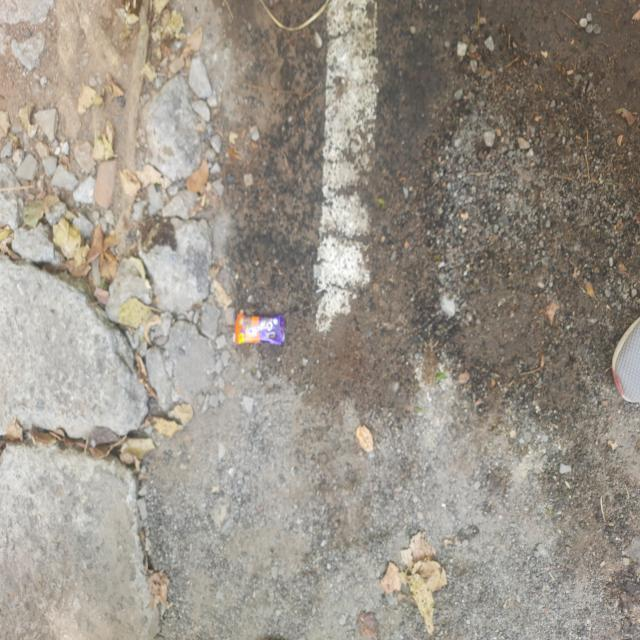Plastic_wraper: (235, 313, 284, 345)
